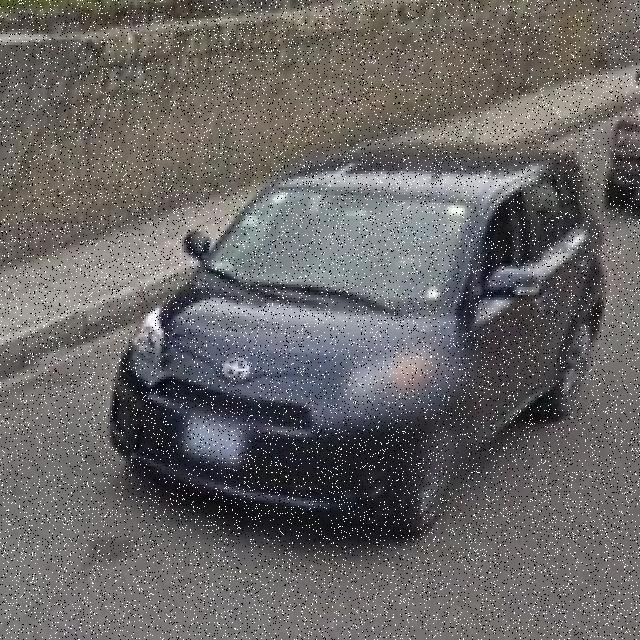cars: (111, 153, 615, 550)
